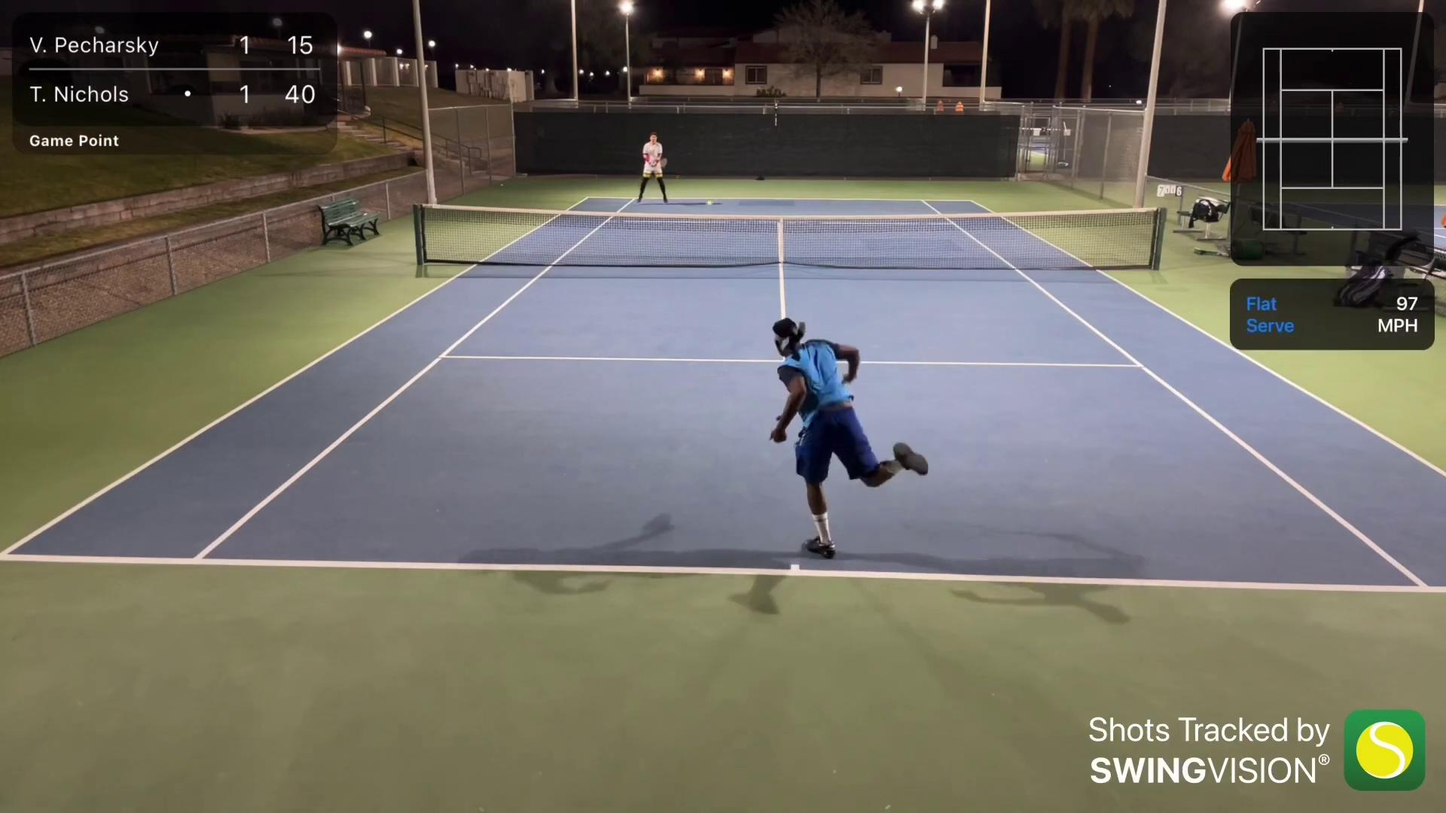ball: (706, 199, 715, 206)
